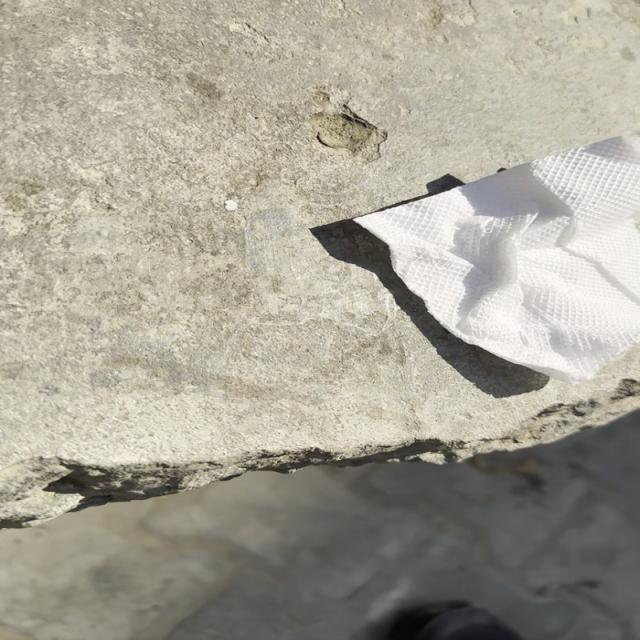tissue: (350, 138, 636, 386)
